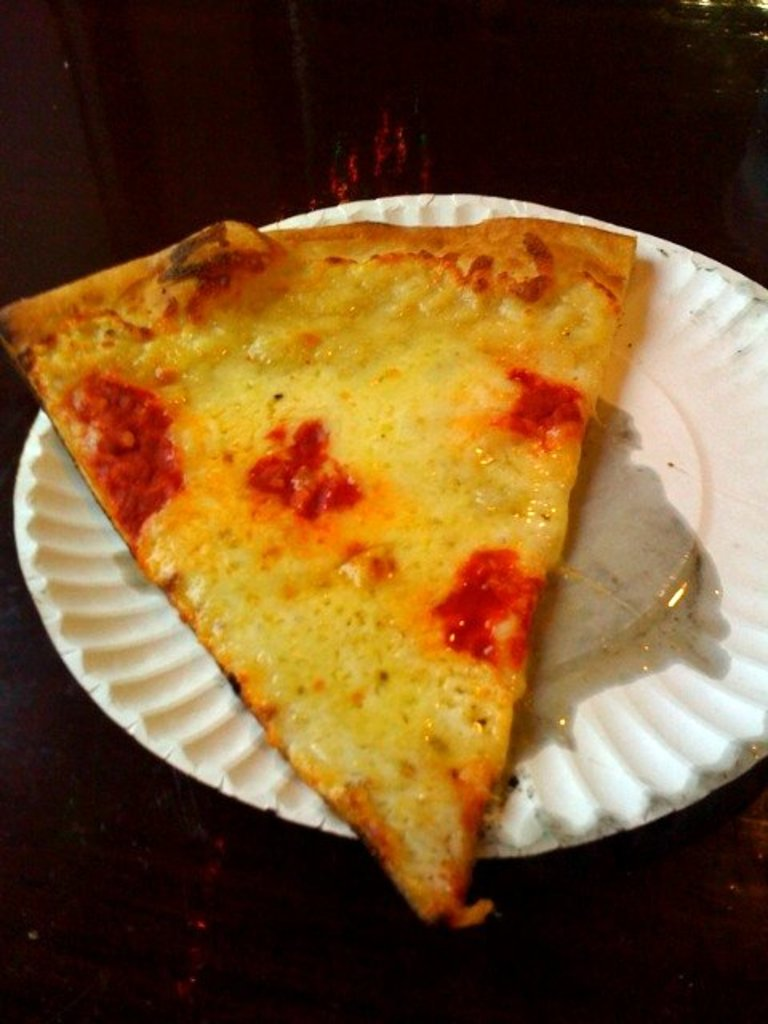Pizza: (15, 196, 696, 923)
